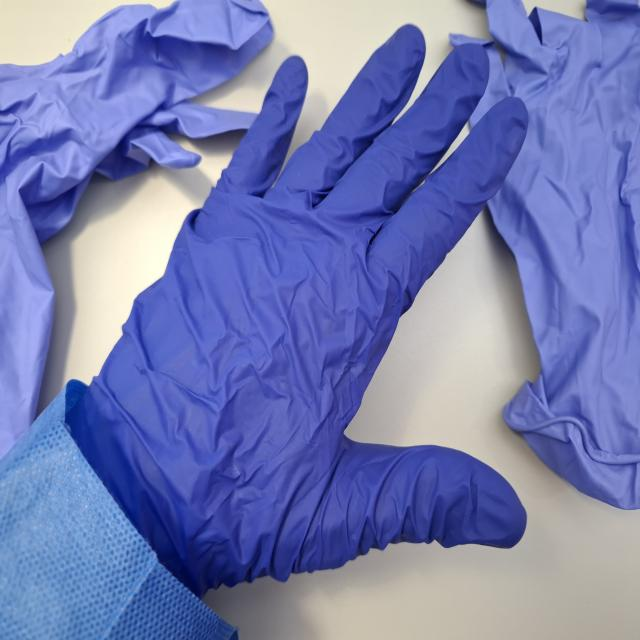glove_on: (68, 18, 536, 590)
